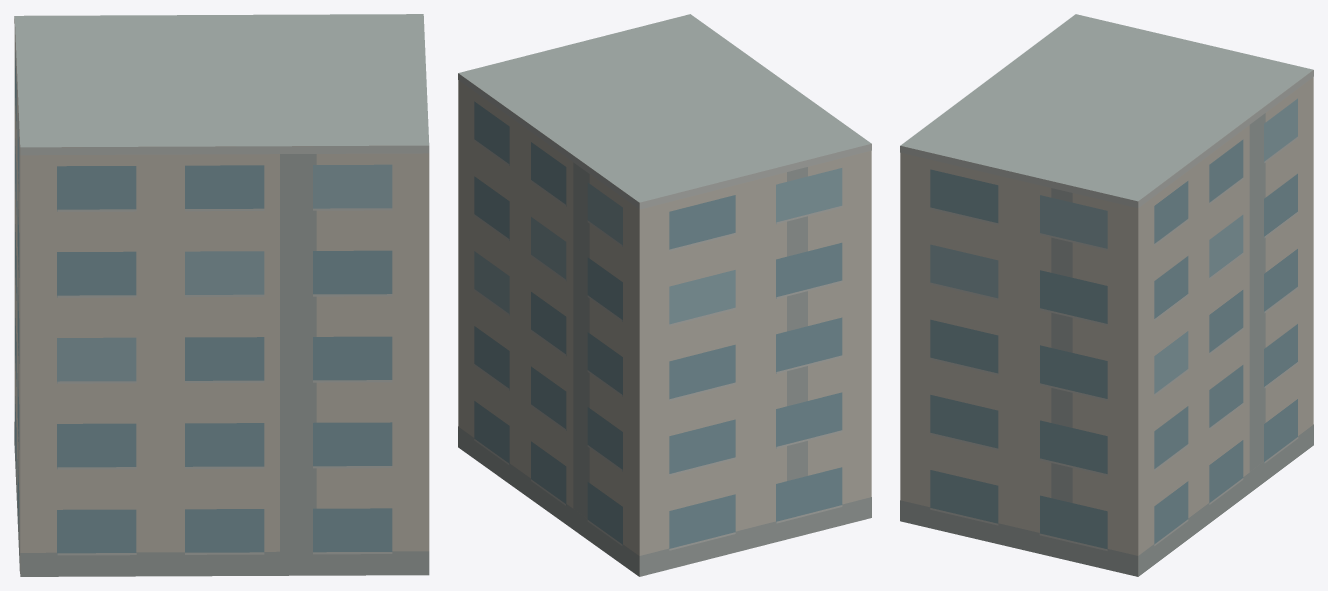
The model's file is survey-upis-32888351.glb.
3 views of the same model, side by side, from view 1: azimuth 30°, elevation 25°; view 2: azimuth 150°, elevation 25°; view 3: azimuth 270°, elevation 25° (orthographic). The views are drawn at different scales.
Parts seen in each view (by area): view 1: survey-upis-32888351.tmp; view 2: survey-upis-32888351.tmp; view 3: survey-upis-32888351.tmp.
Part boxes in pixels (x1,y1,x2,y2): survey-upis-32888351.tmp: (14, 14, 429, 576); survey-upis-32888351.tmp: (458, 14, 871, 576); survey-upis-32888351.tmp: (900, 14, 1313, 576).
Bounding box in the file's own units: 14.13 × 13.2 × 13.19.
